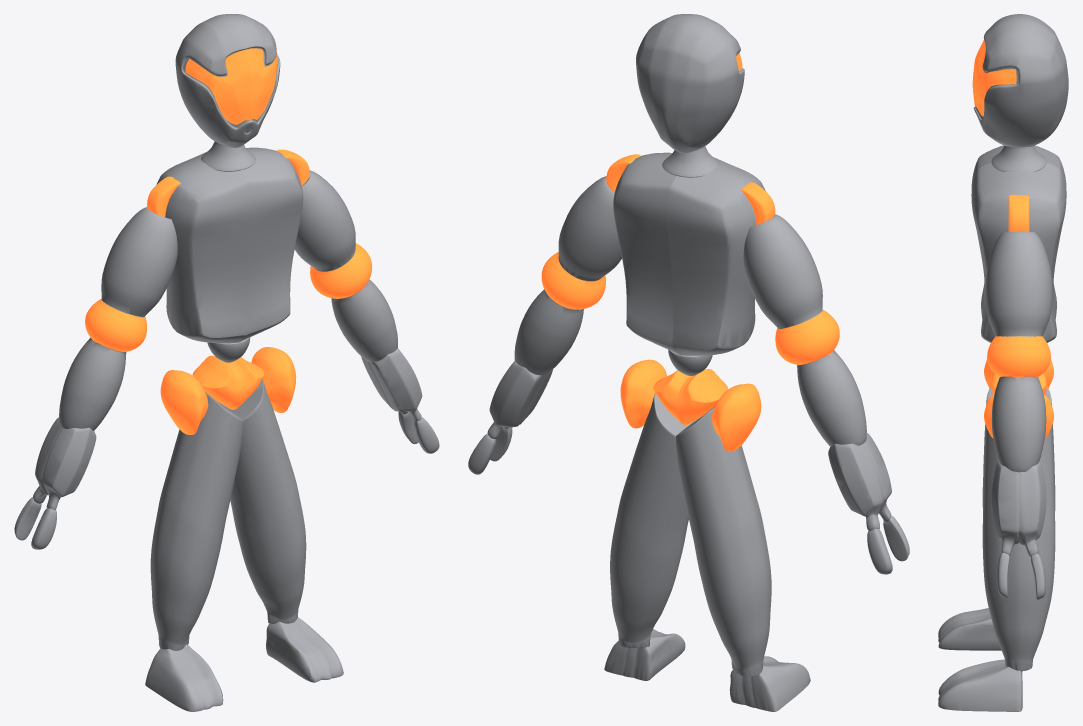
Rendered from robot.glb.
The picture shows the model from 3 angles, left to right: view 1: azimuth 30°, elevation 25°; view 2: azimuth 150°, elevation 25°; view 3: azimuth 270°, elevation 25°; orthographic projection. The views are drawn at different scales.
Visible parts, largest first — view 1: Robot; view 2: Robot; view 3: Robot.
Part boxes in pixels (x1,y1,x2,y2): Robot: (14,14,439,711); Robot: (468,14,909,711); Robot: (938,14,1068,711).
Bounding box in the file's own units: 2.29 × 3.48 × 0.6309.
